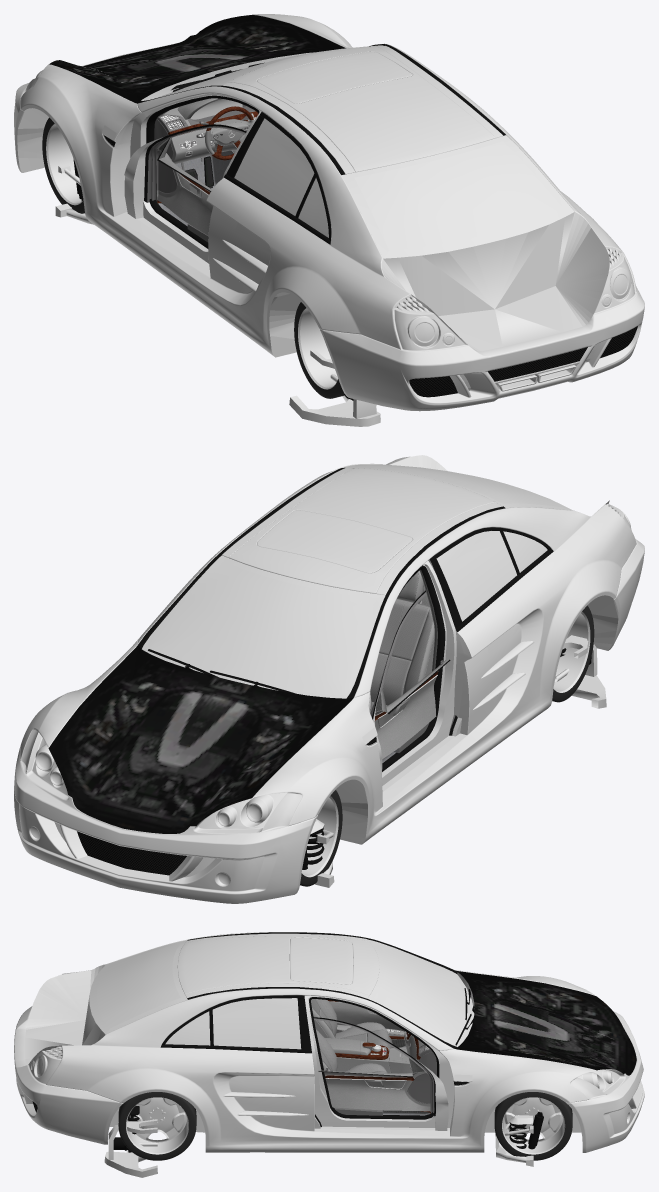
The model's file is MCLA_VP_MBZ_S600_07_DUB.glb.
3 views of the same model, one above another, from view 1: azimuth 30°, elevation 25°; view 2: azimuth 150°, elevation 25°; view 3: azimuth 270°, elevation 25° (orthographic). The views are drawn at different scales.
Visible parts, largest first — view 1: vp_mbz_s600_07_dub/resources/vehicle/vp_mbz_s600_07_dub/body, vp_mbz_s600_07_dub/resources/vehicle/vp_mbz_s600_07_dub/inte, vp_mbz_s600_07_dub/resources/vehicle/vp_mbz_s600_07_dub/door, vp_mbz_s600_07_dub/resources/vehicle/vp_mbz_s600_07_dub/armr, shared/resources/rims/whl_stk_mbz_s600@axl_2, shared/resources/rims/whl_stk_mbz_s600@axl_0, vp_mbz_s600_07_dub/resources/vehicle/vp_mbz_s600_07_dub/stee, shared/resources/tires/models/tir_car@axl_2, vp_mbz_s600_07_dub/resources/vehicle/vp_mbz_s600_07_dub/armf; view 2: vp_mbz_s600_07_dub/resources/vehicle/vp_mbz_s600_07_dub/body, vp_mbz_s600_07_dub/resources/vehicle/vp_mbz_s600_07_dub/inte, vp_mbz_s600_07_dub/resources/vehicle/vp_mbz_s600_07_dub/seat, vp_mbz_s600_07_dub/resources/vehicle/vp_mbz_s600_07_dub/door, vp_mbz_s600_07_dub/resources/vehicle/vp_mbz_s600_07_dub/armr, shared/resources/rims/whl_stk_mbz_s600@axl_2, shared/resources/rims/whl_stk_mbz_s600@axl_0, vp_mbz_s600_07_dub/resources/vehicle/vp_mbz_s600_07_dub/armf, shared/resources/tires/models/tir_car@axl_2; view 3: vp_mbz_s600_07_dub/resources/vehicle/vp_mbz_s600_07_dub/body, vp_mbz_s600_07_dub/resources/vehicle/vp_mbz_s600_07_dub/door (×2), vp_mbz_s600_07_dub/resources/vehicle/vp_mbz_s600_07_dub/inte, vp_mbz_s600_07_dub/resources/vehicle/vp_mbz_s600_07_dub/seat (×2), shared/resources/rims/whl_stk_mbz_s600@axl_3, shared/resources/rims/whl_stk_mbz_s600@axl_1, vp_mbz_s600_07_dub/resources/vehicle/vp_mbz_s600_07_dub/armr, shared/resources/tires/models/tir_car@axl_3, shared/resources/tires/models/tir_car@axl_1, vp_mbz_s600_07_dub/resources/vehicle/vp_mbz_s600_07_dub/armf.
Part boxes in pixels (x1,y1,x2,y2): vp_mbz_s600_07_dub/resources/vehicle/vp_mbz_s600_07_dub/body: [14, 14, 644, 411]; vp_mbz_s600_07_dub/resources/vehicle/vp_mbz_s600_07_dub/inte: [120, 93, 261, 269]; vp_mbz_s600_07_dub/resources/vehicle/vp_mbz_s600_07_dub/door: [124, 124, 246, 242]; vp_mbz_s600_07_dub/resources/vehicle/vp_mbz_s600_07_dub/armr: [289, 349, 380, 426]; shared/resources/rims/whl_stk_mbz_s600@axl_2: [298, 308, 337, 389]; shared/resources/rims/whl_stk_mbz_s600@axl_0: [46, 124, 82, 205]; vp_mbz_s600_07_dub/resources/vehicle/vp_mbz_s600_07_dub/stee: [205, 106, 253, 160]; shared/resources/tires/models/tir_car@axl_2: [294, 302, 344, 398]; vp_mbz_s600_07_dub/resources/vehicle/vp_mbz_s600_07_dub/armf: [55, 159, 93, 224]; vp_mbz_s600_07_dub/resources/vehicle/vp_mbz_s600_07_dub/body: [14, 455, 644, 903]; vp_mbz_s600_07_dub/resources/vehicle/vp_mbz_s600_07_dub/inte: [369, 559, 463, 791]; vp_mbz_s600_07_dub/resources/vehicle/vp_mbz_s600_07_dub/seat: [370, 570, 434, 706]; vp_mbz_s600_07_dub/resources/vehicle/vp_mbz_s600_07_dub/door: [370, 590, 461, 777]; vp_mbz_s600_07_dub/resources/vehicle/vp_mbz_s600_07_dub/armr: [555, 635, 606, 708]; shared/resources/rims/whl_stk_mbz_s600@axl_2: [553, 612, 590, 692]; shared/resources/rims/whl_stk_mbz_s600@axl_0: [301, 796, 338, 877]; vp_mbz_s600_07_dub/resources/vehicle/vp_mbz_s600_07_dub/armf: [302, 819, 334, 887]; shared/resources/tires/models/tir_car@axl_2: [552, 605, 594, 702]; vp_mbz_s600_07_dub/resources/vehicle/vp_mbz_s600_07_dub/body: [14, 932, 644, 1152]; vp_mbz_s600_07_dub/resources/vehicle/vp_mbz_s600_07_dub/door (×2): [313, 1000, 448, 1130]; vp_mbz_s600_07_dub/resources/vehicle/vp_mbz_s600_07_dub/inte: [304, 995, 454, 1130]; vp_mbz_s600_07_dub/resources/vehicle/vp_mbz_s600_07_dub/seat (×2): [311, 999, 392, 1073]; shared/resources/rims/whl_stk_mbz_s600@axl_3: [126, 1097, 188, 1154]; shared/resources/rims/whl_stk_mbz_s600@axl_1: [502, 1097, 565, 1154]; vp_mbz_s600_07_dub/resources/vehicle/vp_mbz_s600_07_dub/armr: [104, 1106, 157, 1177]; shared/resources/tires/models/tir_car@axl_3: [118, 1092, 196, 1160]; shared/resources/tires/models/tir_car@axl_1: [494, 1092, 572, 1160]; vp_mbz_s600_07_dub/resources/vehicle/vp_mbz_s600_07_dub/armf: [495, 1112, 543, 1166].
Size of the model in its own units: 2.23 by 1.53 by 5.28.
Materials: 105 (65 with a texture image).
